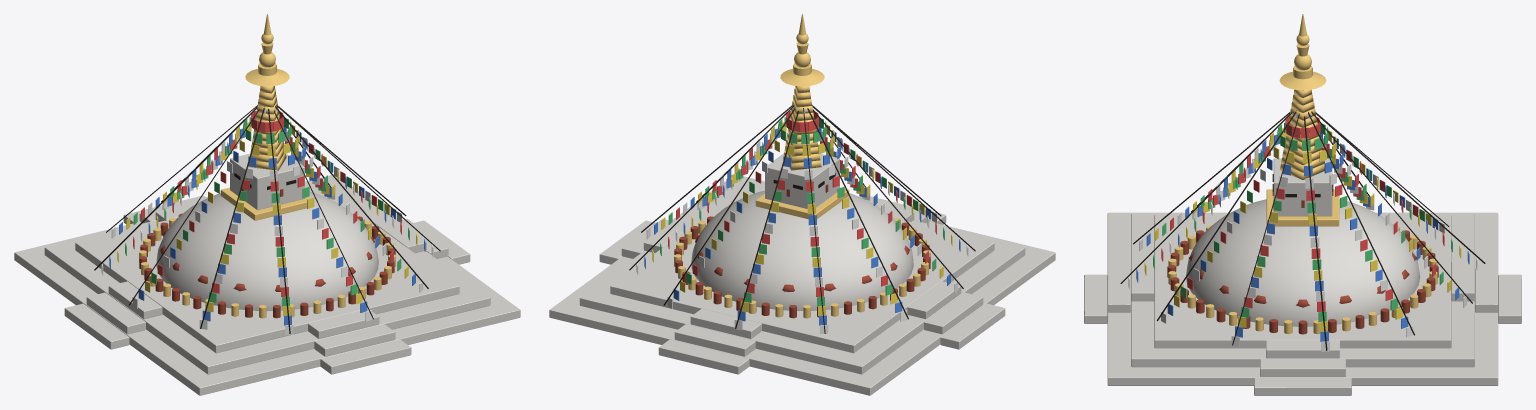
The model's file is stupa_boudha.glb.
3 renders of one model, left to right at view 1: azimuth 30°, elevation 25°; view 2: azimuth 150°, elevation 25°; view 3: azimuth 270°, elevation 25°, orthographic. The views are drawn at different scales.
Parts seen in each view (by area): view 1: stupa_boudha; view 2: stupa_boudha; view 3: stupa_boudha.
Boxes of the visible parts, x1,y1,x2,y2 form: stupa_boudha: (14,14,520,395); stupa_boudha: (549,14,1055,395); stupa_boudha: (1084,14,1521,395).
Bounding box in the file's own units: 1.12 × 0.8177 × 1.12.
